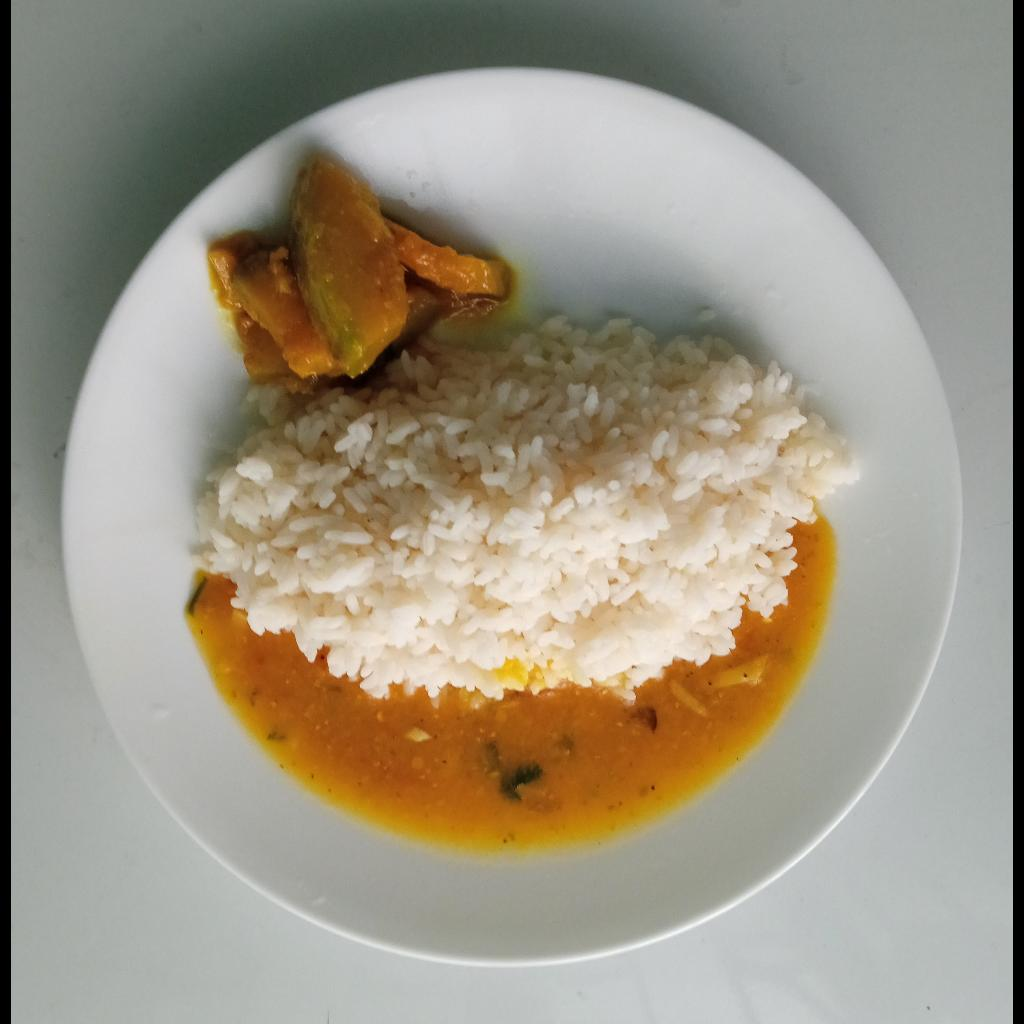chicken: (201, 159, 517, 383)
daal: (190, 529, 835, 852)
rice: (181, 330, 861, 687)
